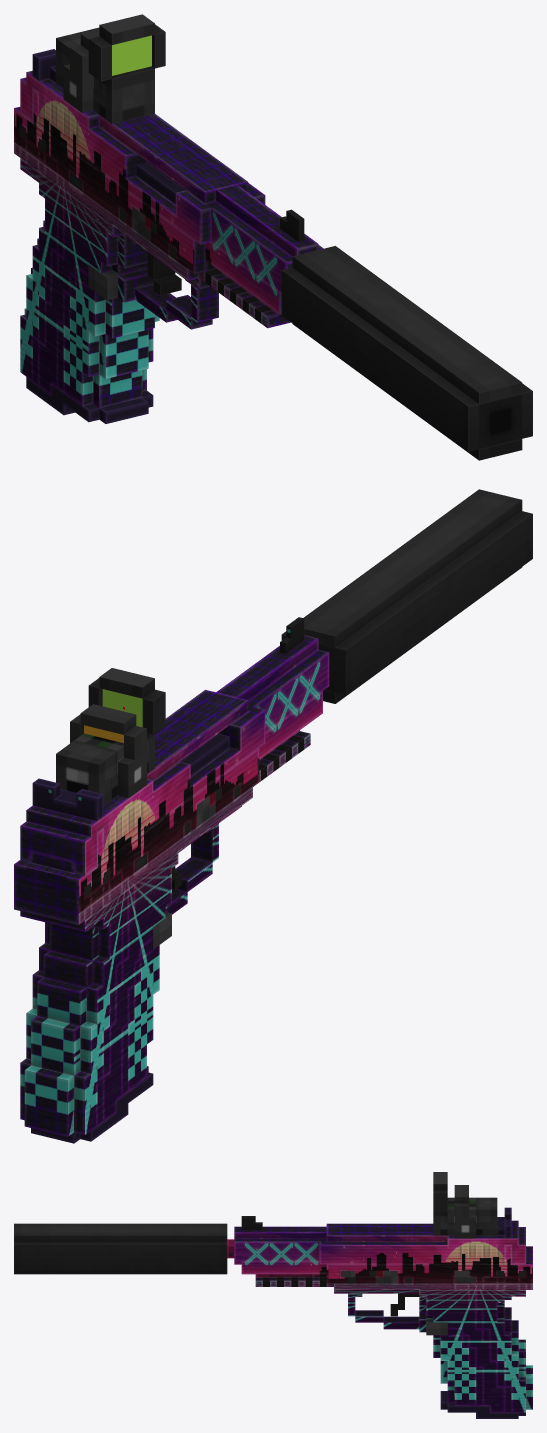
The model's file is RD_FN57_RETRO.glb.
3 renders of one model, top to bottom at view 1: azimuth 30°, elevation 25°; view 2: azimuth 150°, elevation 25°; view 3: azimuth 270°, elevation 25°, orthographic. The views are drawn at different scales.
Visible parts, largest first — view 1: FN57, SILENCER_6X6, FN57_FRAME, SCOPE_AIMPOINT, FN57_CLIP, SCOPE_TRIJICON; view 2: FN57, FN57_FRAME, SILENCER_6X6, SCOPE_AIMPOINT, SCOPE_TRIJICON, FN57_CLIP; view 3: FN57, FN57_FRAME, SILENCER_6X6, SCOPE_AIMPOINT, SCOPE_TRIJICON, FN57_CLIP.
Part boxes in pixels (bbox=[...]): FN57: bbox=[14, 107, 290, 408]; SILENCER_6X6: bbox=[281, 246, 532, 460]; FN57_FRAME: bbox=[20, 49, 323, 293]; SCOPE_AIMPOINT: bbox=[56, 14, 165, 123]; FN57_CLIP: bbox=[26, 377, 153, 423]; SCOPE_TRIJICON: bbox=[56, 29, 99, 112]; FN57: bbox=[14, 691, 322, 1136]; FN57_FRAME: bbox=[20, 617, 329, 875]; SILENCER_6X6: bbox=[281, 489, 532, 703]; SCOPE_AIMPOINT: bbox=[56, 668, 165, 800]; SCOPE_TRIJICON: bbox=[56, 704, 146, 805]; FN57_CLIP: bbox=[31, 1066, 153, 1143]; FN57: bbox=[227, 1239, 532, 1412]; FN57_FRAME: bbox=[234, 1207, 525, 1264]; SILENCER_6X6: bbox=[14, 1223, 227, 1274]; SCOPE_AIMPOINT: bbox=[433, 1172, 497, 1235]; SCOPE_TRIJICON: bbox=[454, 1185, 497, 1238]; FN57_CLIP: bbox=[440, 1391, 525, 1418].
Size of the model in its own units: 0.0591 by 0.3543 by 0.7185.
Materials: 6 (6 with a texture image).
